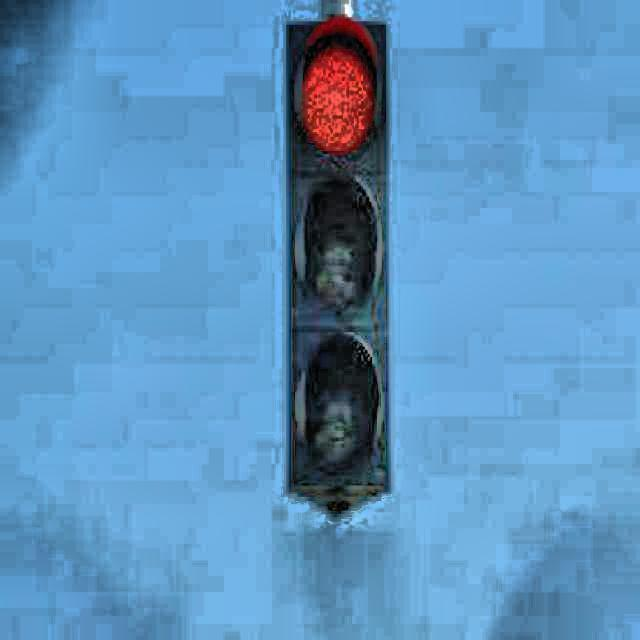red: (288, 15, 396, 517)
